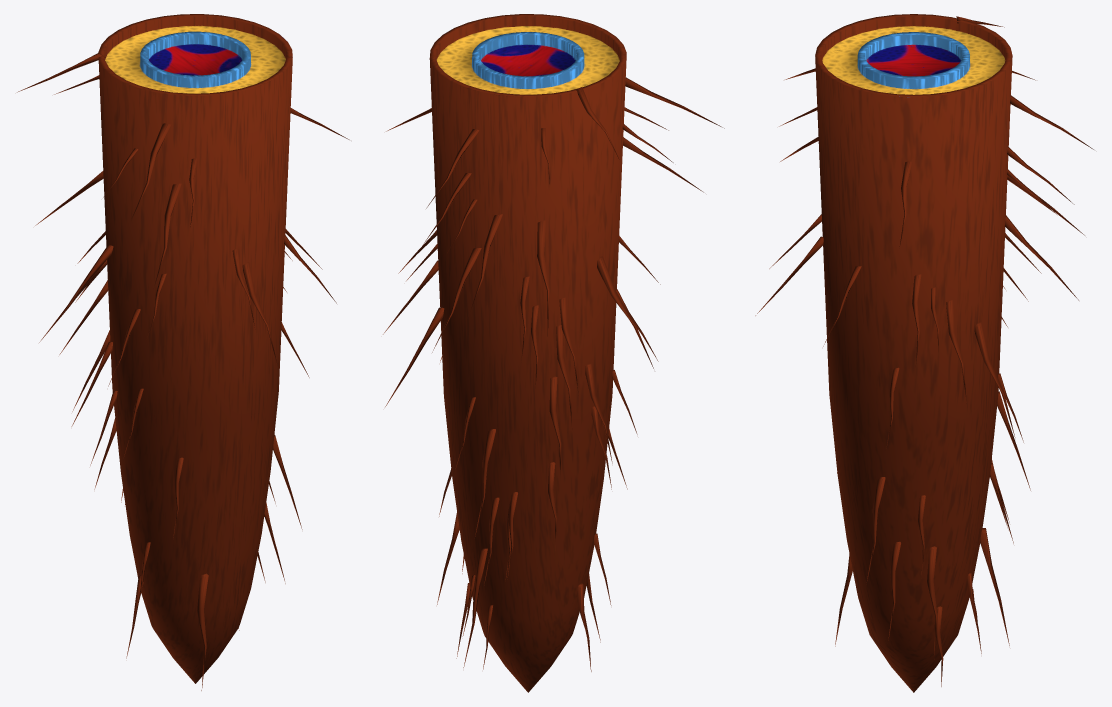
The model's file is Akar_Utuh.fbx.
3 renders of one model, left to right at view 1: azimuth 30°, elevation 25°; view 2: azimuth 150°, elevation 25°; view 3: azimuth 270°, elevation 25°, orthographic.
Visible parts, largest first — view 1: Akar_Utuh; view 2: Akar_Utuh; view 3: Akar_Utuh.
Part boxes in pixels (x1,y1,x2,y2): Akar_Utuh: (17, 14, 349, 690); Akar_Utuh: (383, 14, 724, 692); Akar_Utuh: (755, 14, 1093, 692).
Bounding box in the file's own units: 346 × 715 × 347.
